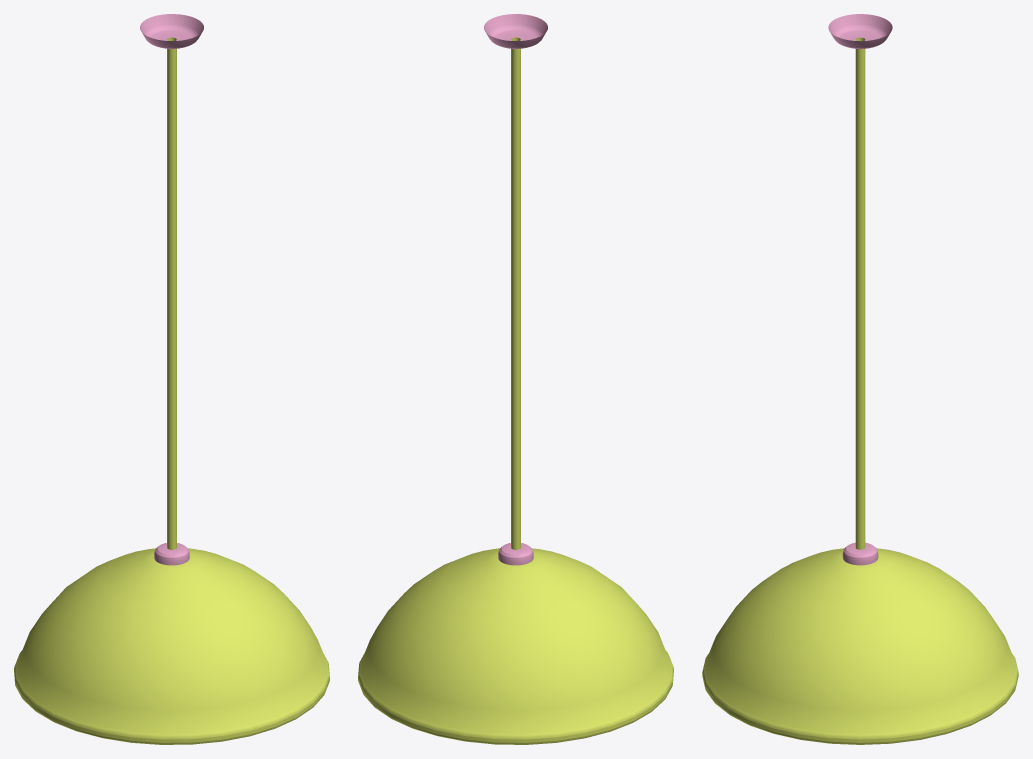
The model's file is Kitcheb-Lamp.fbx.
The picture shows the model from 3 angles, left to right: view 1: azimuth 30°, elevation 25°; view 2: azimuth 150°, elevation 25°; view 3: azimuth 270°, elevation 25°; orthographic projection.
Parts seen in each view (by area): view 1: Cylinder.002; view 2: Cylinder.002; view 3: Cylinder.002.
Boxes of the visible parts, <box> form: Cylinder.002: <box>14,14,329,744</box>; Cylinder.002: <box>358,14,673,744</box>; Cylinder.002: <box>702,14,1018,744</box>.
Size of the model in its own units: 75.8 by 180 by 75.8.
